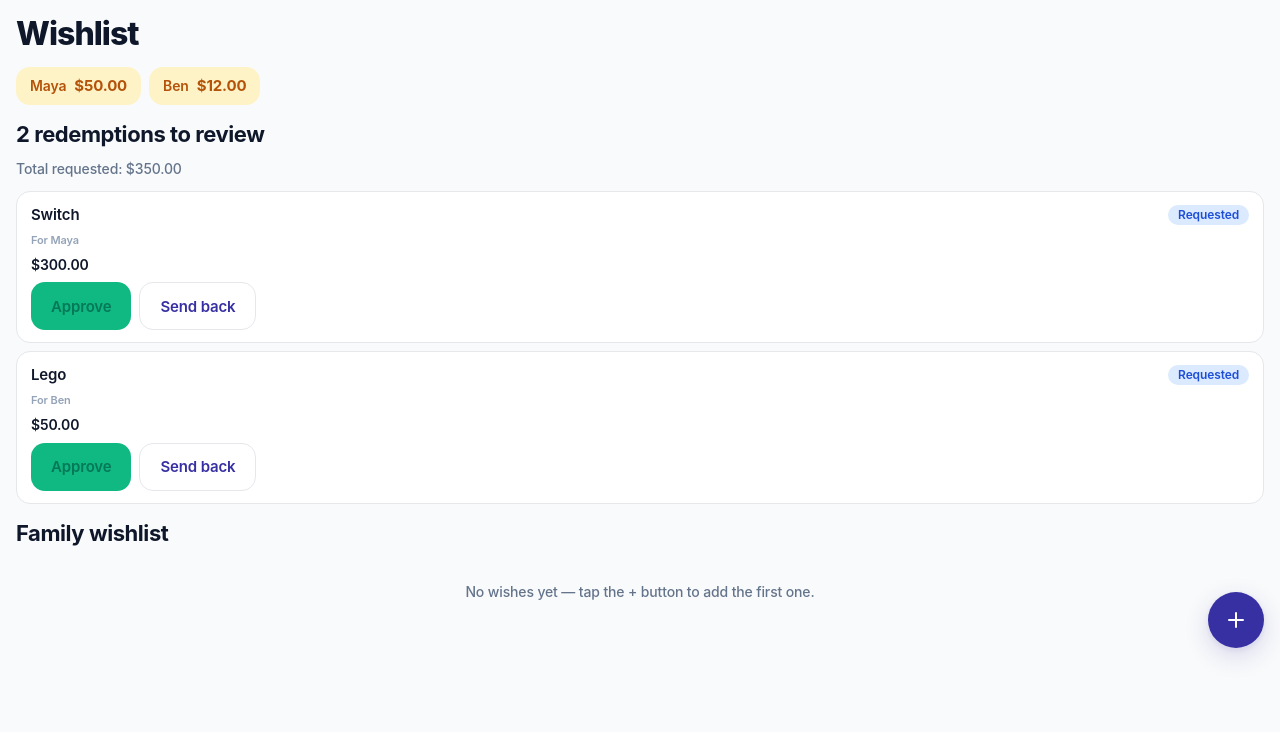
it: WishlistScreen — parent approval queue › REJECTS empty reason: flags aria-invalid + surfaces the inline error (no silent no-op)
The width and height of the screenshot is (1280, 732).
Click the button "Send back" below "$300.00": click(198, 306) [140, 282, 256, 330]
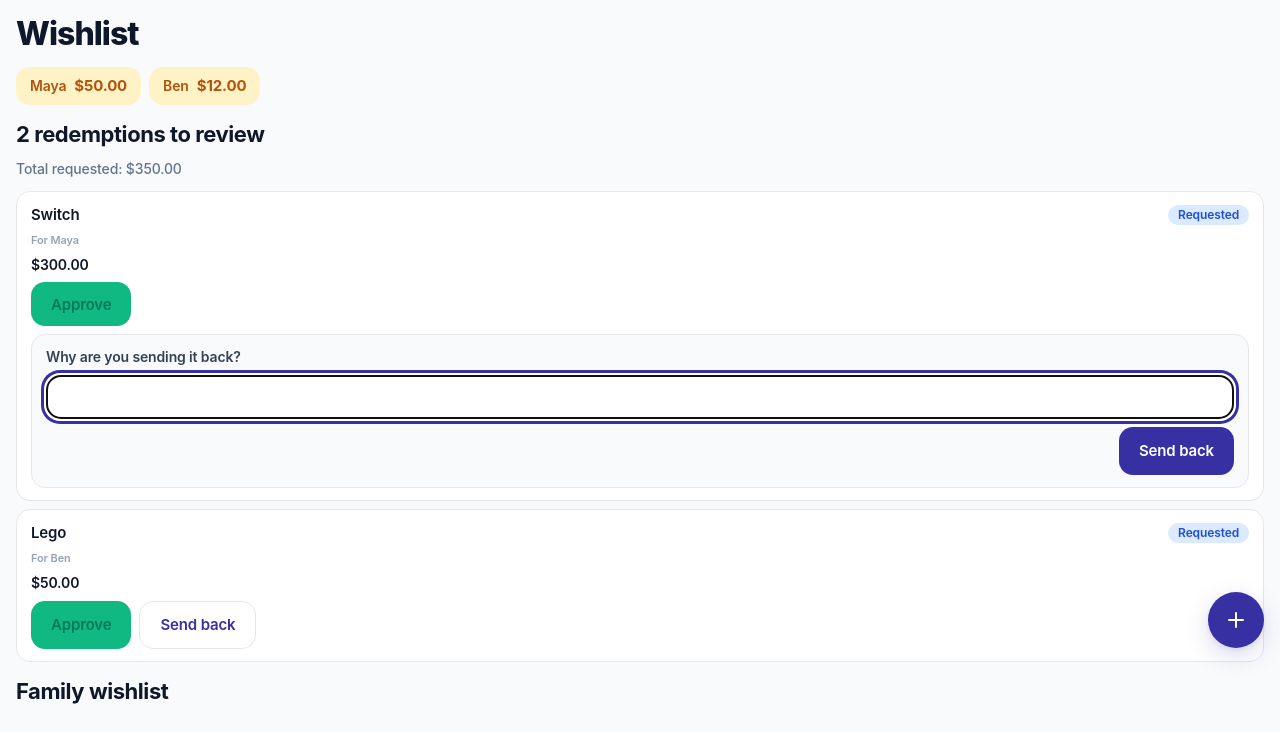
Note: Confirm without a reason
Click the button with aria-label "Send back Switch for Maya": click(1176, 451) [1119, 427, 1234, 475]
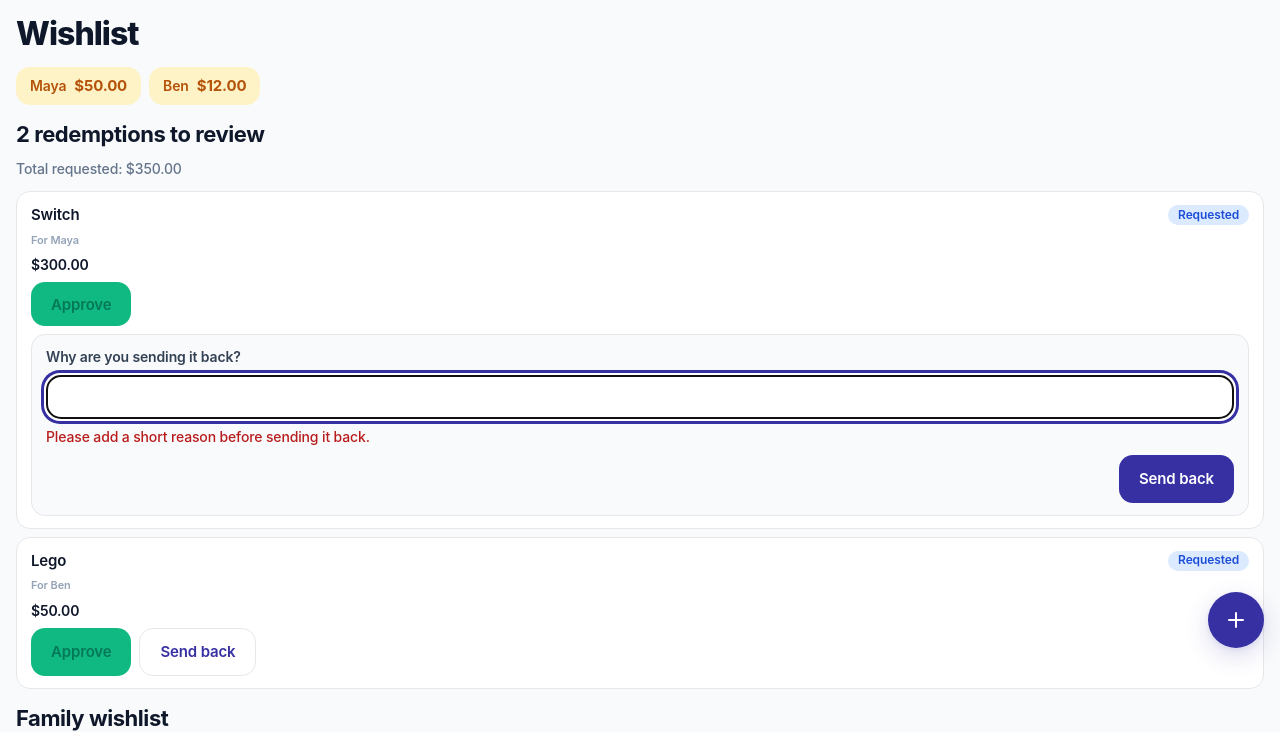
Expected: the text "Please add a short reason before sending it back." is shown, [46, 428, 370, 445]
